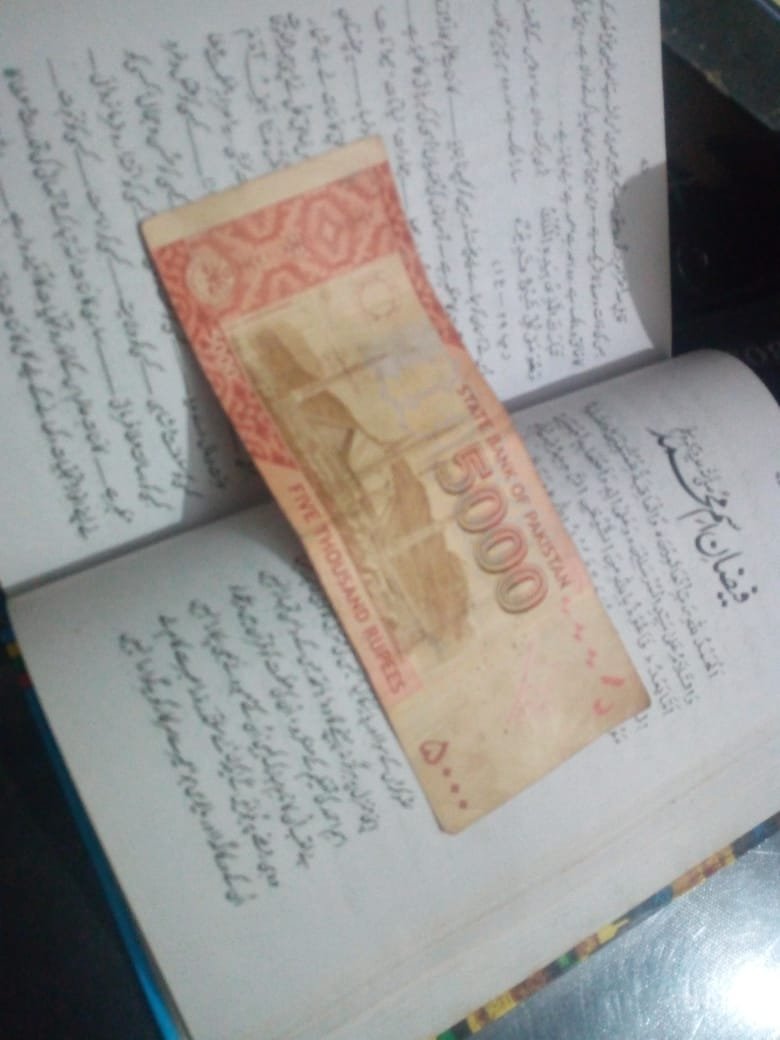5000 rupee: (140, 157, 644, 852)
